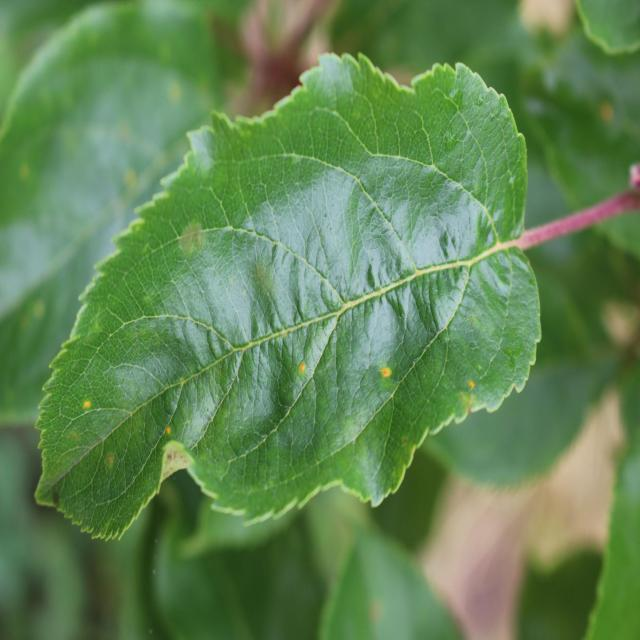Rust: (363, 348, 402, 386), (448, 371, 483, 404), (299, 352, 315, 389), (80, 397, 102, 422), (162, 425, 175, 444)
scab: (237, 251, 284, 308), (172, 214, 208, 263)
